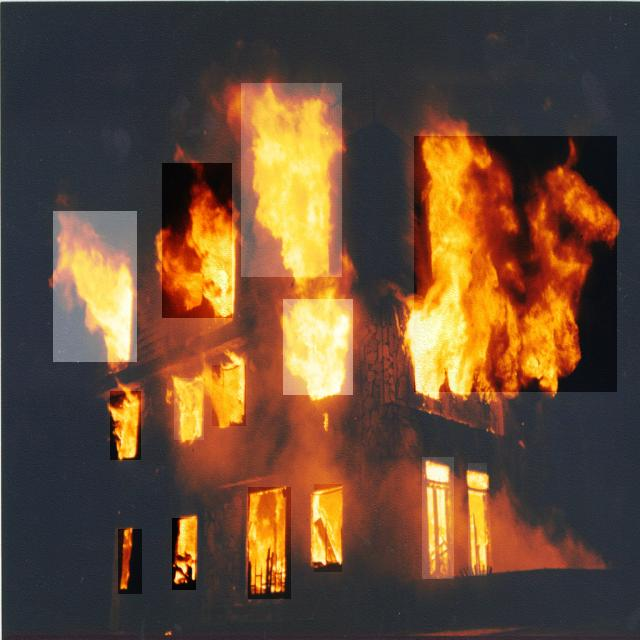Fire: (414, 136, 617, 392), (241, 83, 342, 277), (53, 211, 137, 362), (162, 163, 232, 318), (283, 299, 353, 395), (248, 487, 291, 599), (422, 457, 454, 579), (314, 484, 342, 572), (468, 463, 487, 576), (110, 391, 141, 460), (212, 365, 246, 426), (174, 378, 204, 441), (172, 518, 196, 590), (118, 529, 142, 594)
